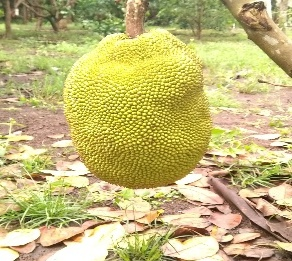Mit: (60, 32, 211, 188)
